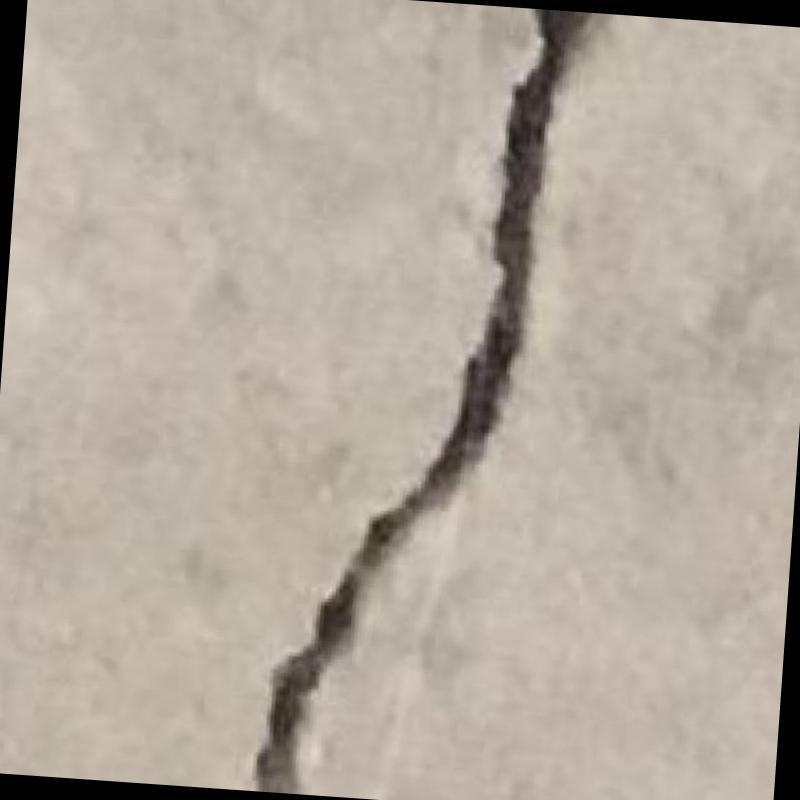pothole: (256, 8, 590, 792)
